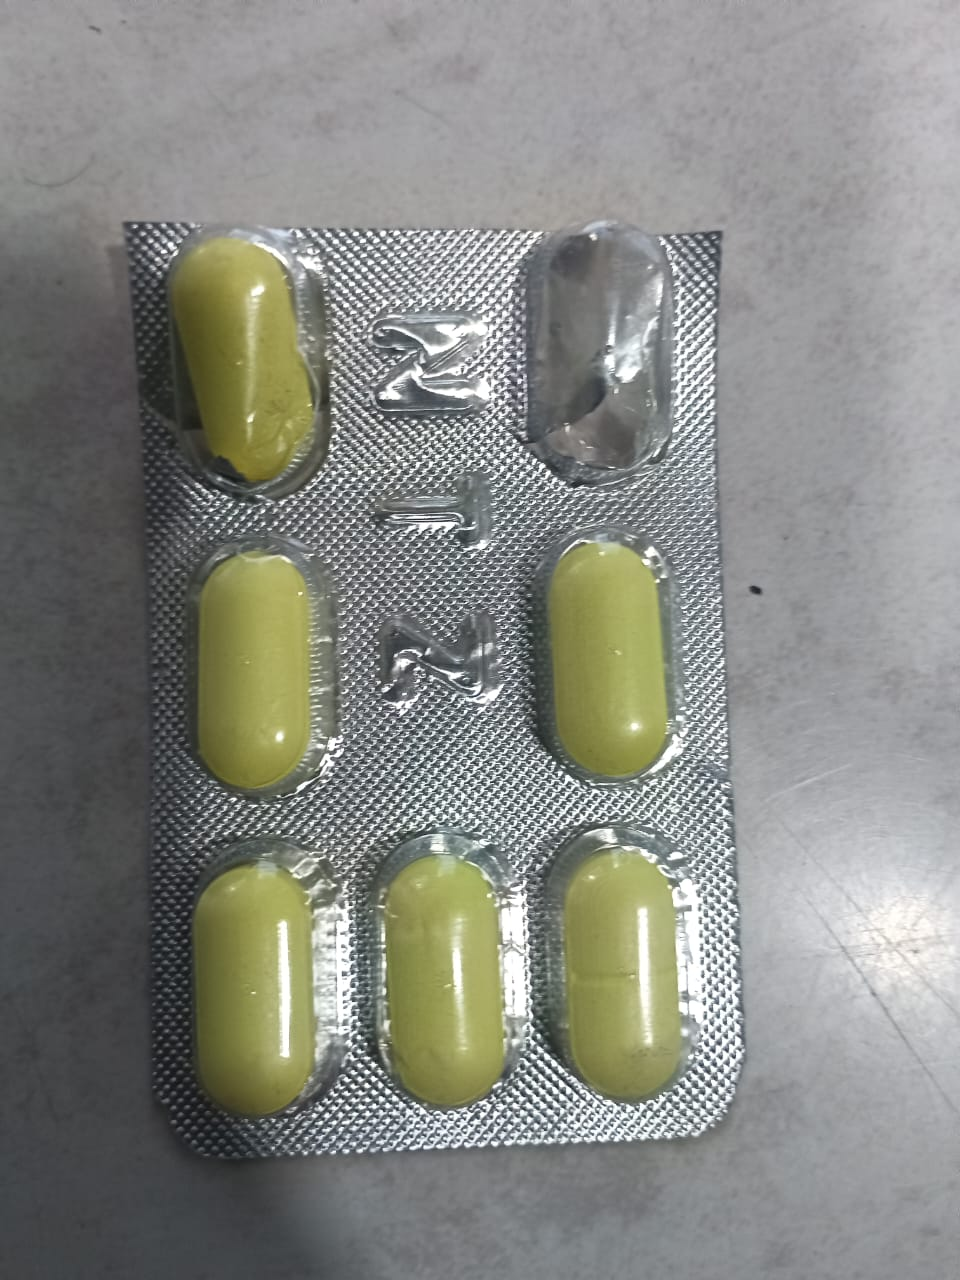Norflox TZ: (151, 217, 381, 514), (516, 834, 737, 1107), (166, 527, 359, 803), (363, 822, 536, 1127), (182, 829, 357, 1116), (514, 519, 700, 785)
